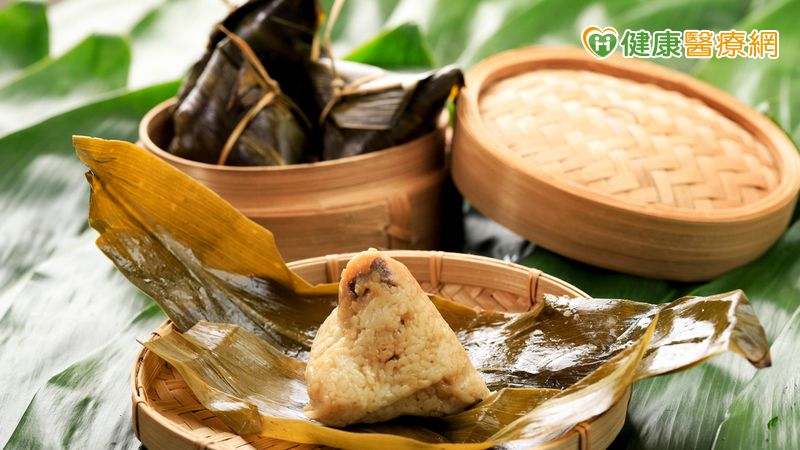zongzi: (305, 249, 489, 425), (169, 39, 306, 165), (310, 58, 463, 159)
